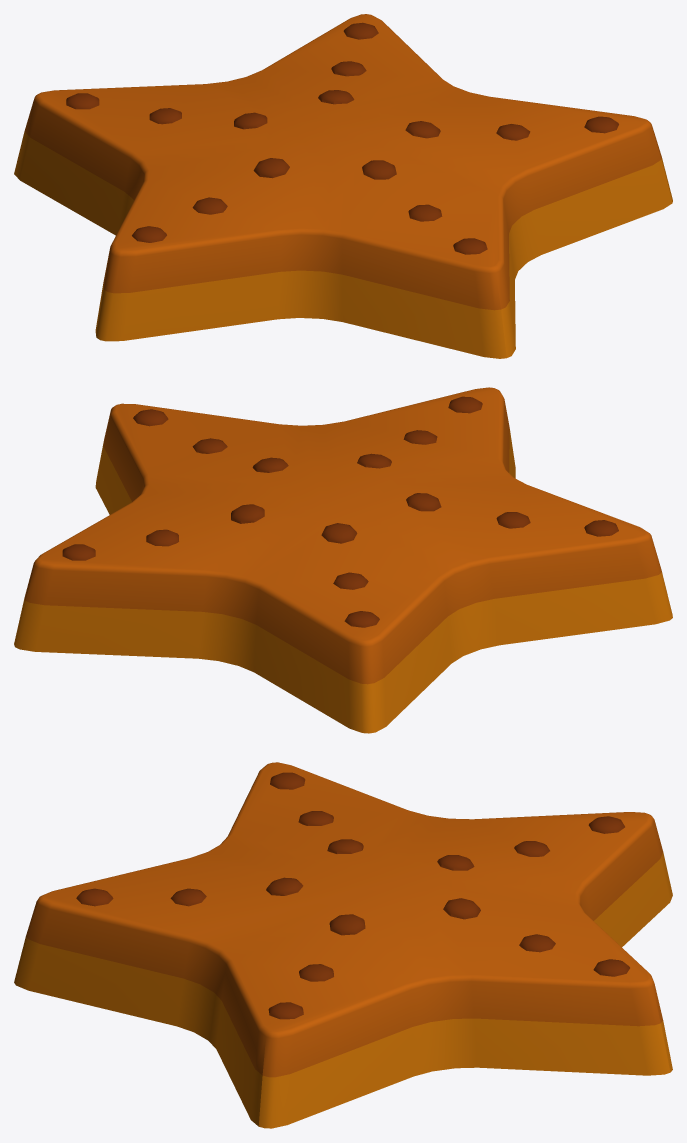
The model's file is Starfish.fbx.
3 views of the same model, one above another, from view 1: azimuth 30°, elevation 25°; view 2: azimuth 150°, elevation 25°; view 3: azimuth 270°, elevation 25° (orthographic). The views are drawn at different scales.
Parts seen in each view (by area): view 1: Starfish; view 2: Starfish; view 3: Starfish.
Part boxes in pixels (x1,y1,x2,y2): Starfish: [14, 14, 672, 358]; Starfish: [14, 387, 672, 733]; Starfish: [14, 762, 672, 1128].
Bounding box in the file's own units: 15.02 × 2.47 × 14.33.
